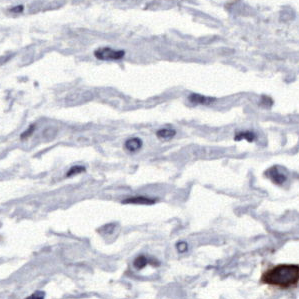Lymphocyte: (260, 260, 299, 288)
